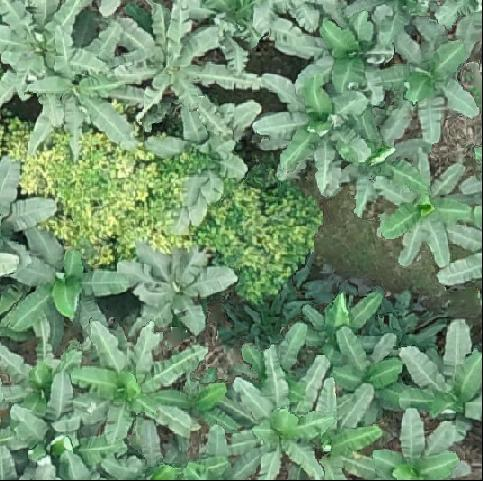Banana-plant: (209, 346, 382, 481), (69, 319, 209, 465), (105, 7, 266, 132), (21, 17, 146, 163), (248, 66, 383, 199), (0, 225, 134, 343), (351, 29, 479, 145), (0, 368, 126, 481), (262, 0, 403, 98), (116, 236, 237, 340), (375, 146, 476, 269), (335, 404, 483, 481), (397, 320, 483, 445), (0, 0, 91, 100), (0, 315, 86, 409), (316, 326, 412, 408), (241, 323, 312, 404)
